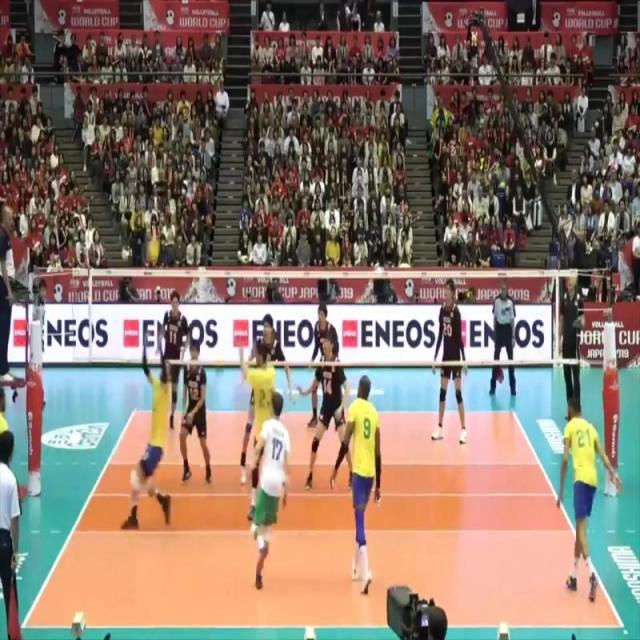volleyball: (142, 235, 160, 265)
